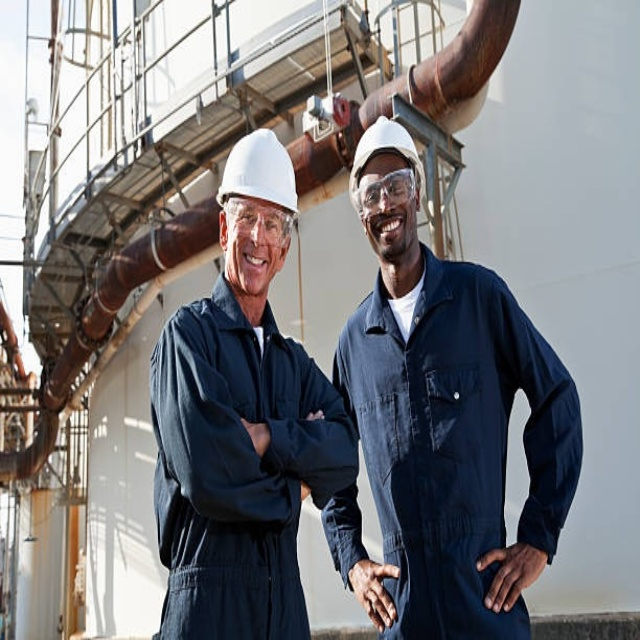Gafas: (226, 200, 295, 246), (354, 167, 416, 214)
Sin_guantes: (477, 541, 546, 611), (349, 558, 401, 630)
Sin_mascara: (371, 215, 404, 241), (243, 251, 270, 270)
